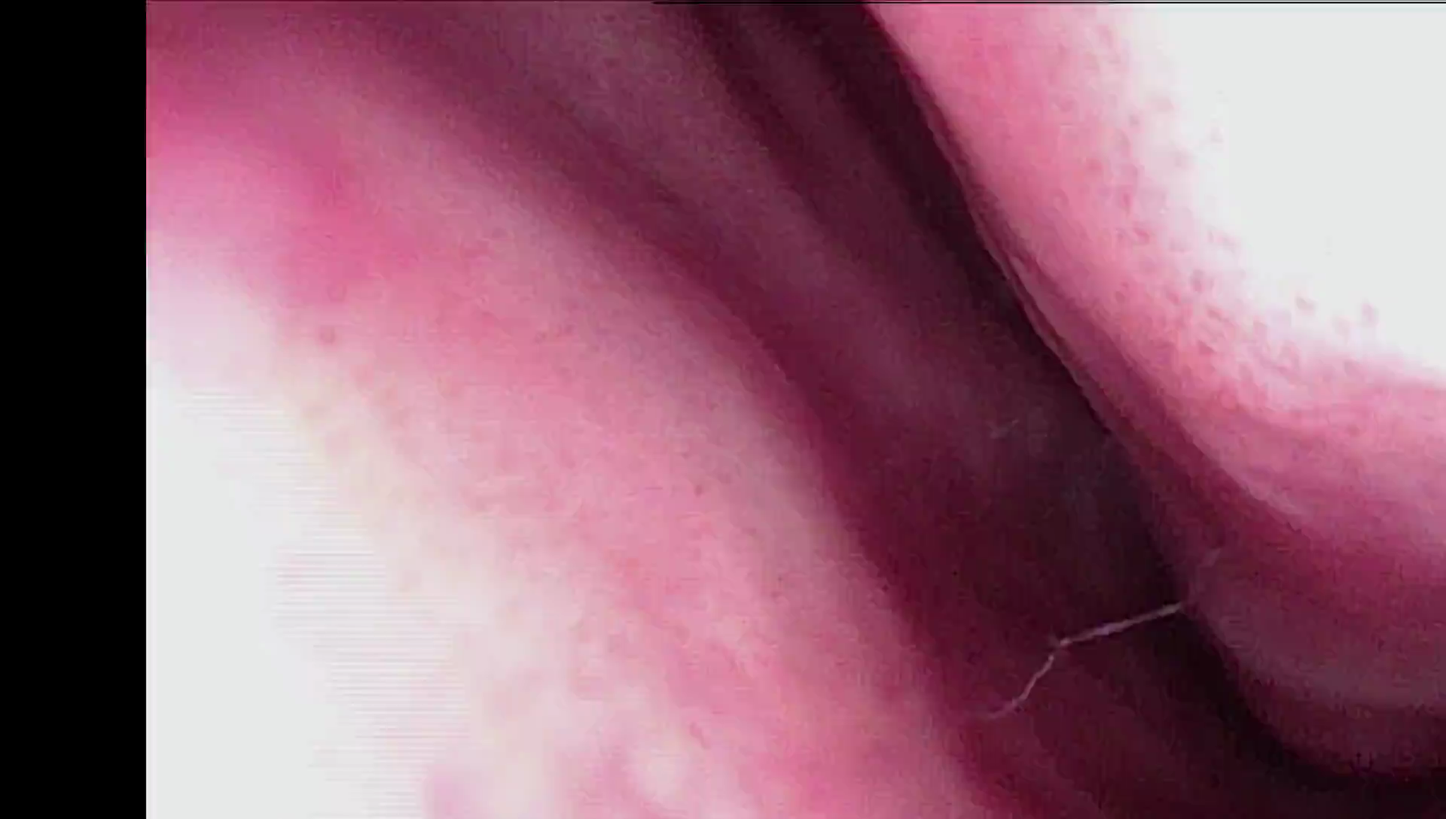close_wall: (154, 251, 713, 819), (1068, 0, 1446, 421)
next: (1066, 504, 1391, 819)
